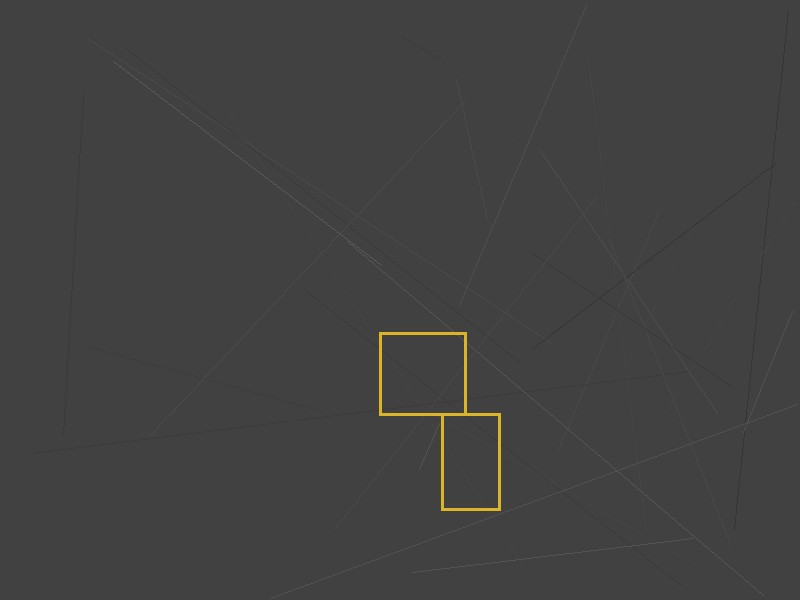D00: (379, 332, 466, 415), (441, 413, 500, 510)
